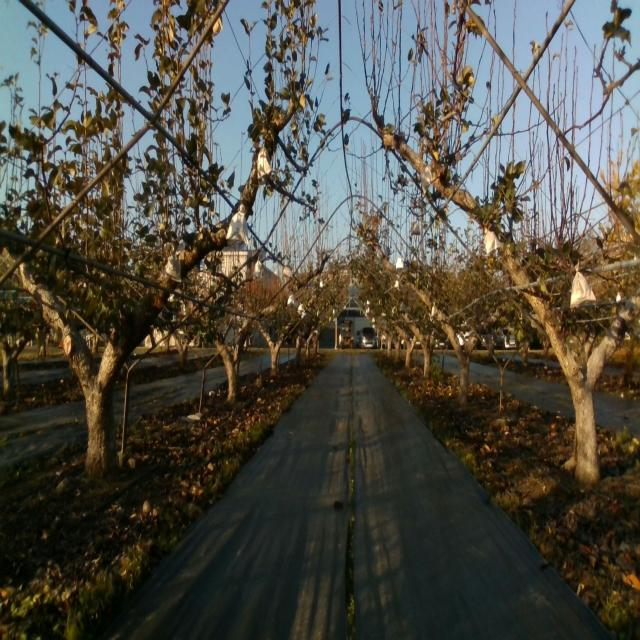pearbags: (570, 261, 597, 310), (227, 202, 249, 246), (160, 252, 182, 283), (418, 158, 433, 196), (484, 224, 502, 255), (258, 142, 272, 181)
